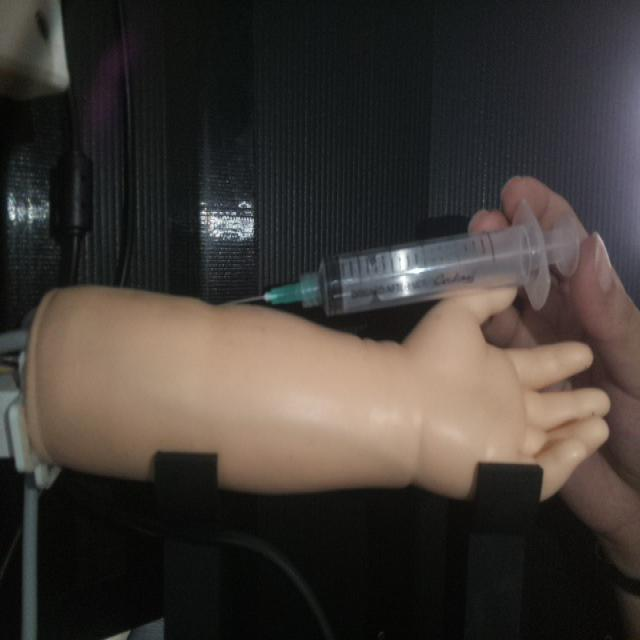Outside: (221, 197, 582, 318)
